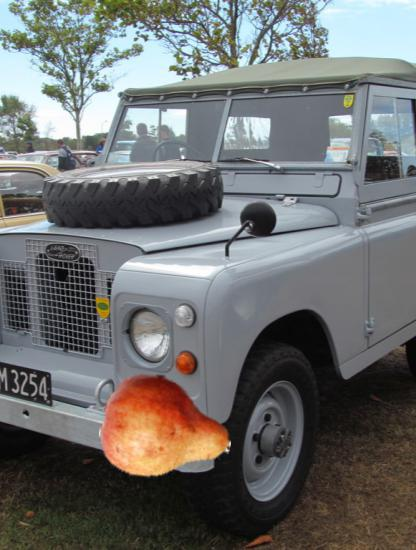Pear: (100, 361, 233, 494)
